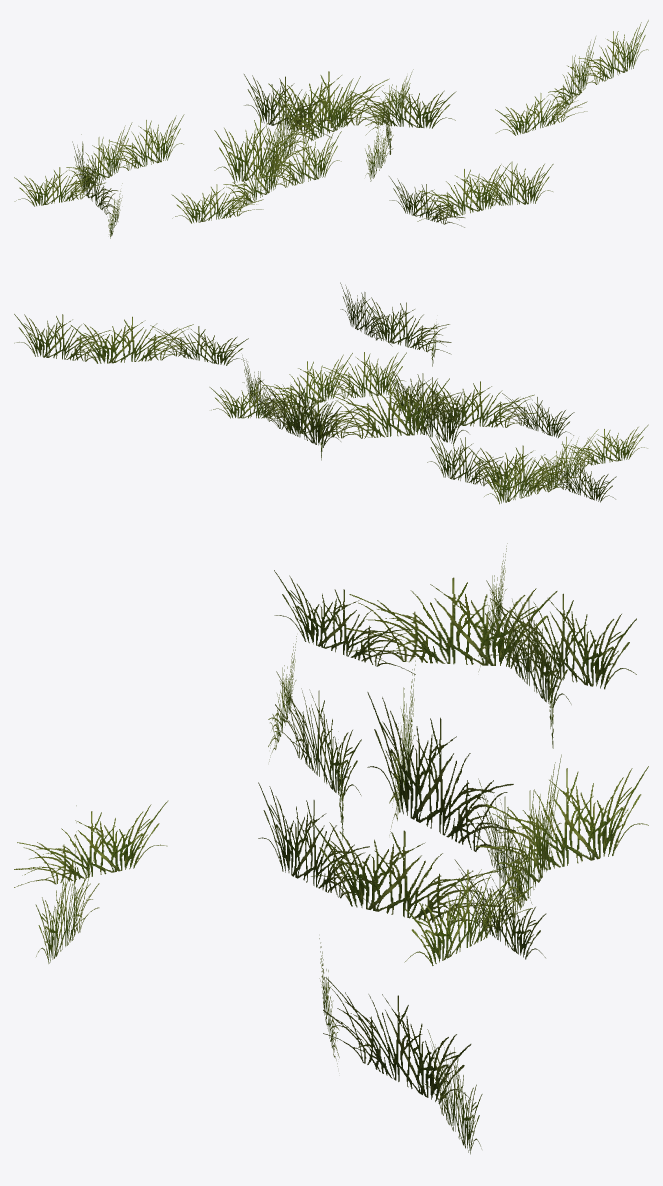
File: wm_灌木小绿草01.fbx
3 renders of one model, top to bottom at view 1: azimuth 30°, elevation 25°; view 2: azimuth 150°, elevation 25°; view 3: azimuth 270°, elevation 25°, orthographic. The views are drawn at different scales.
Visible parts, largest first — view 1: wm_灌木小绿草01; view 2: wm_灌木小绿草01; view 3: wm_灌木小绿草01.
Boxes of the visible parts, box(x1,y1,x2,y2) form: wm_灌木小绿草01: box(14, 20, 648, 238); wm_灌木小绿草01: box(14, 282, 648, 504); wm_灌木小绿草01: box(14, 543, 648, 1154).
Bounding box in the file's own units: 865 × 83.78 × 409.
